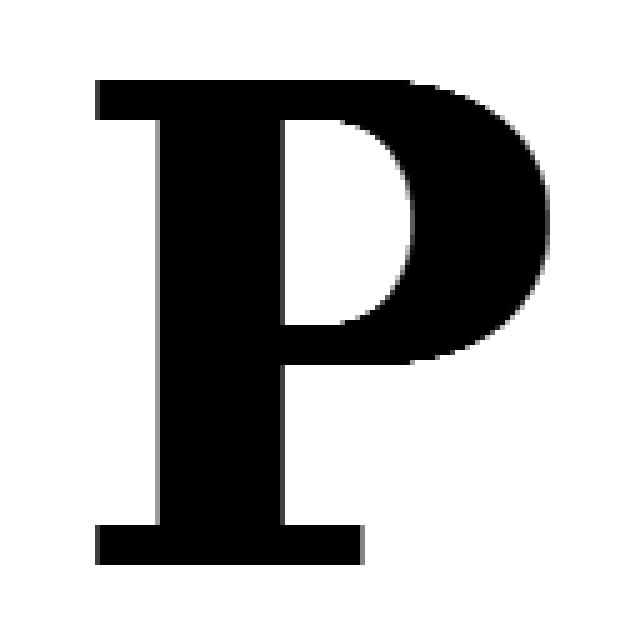P: (95, 80, 550, 565)
